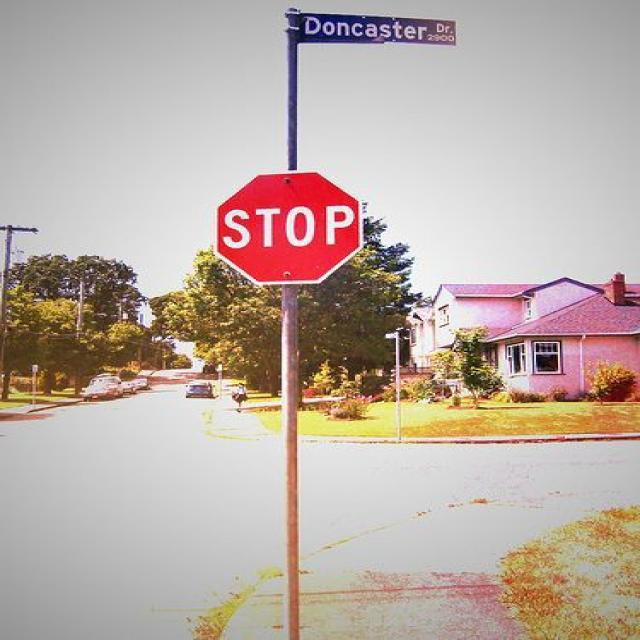stop: (213, 170, 363, 286)
